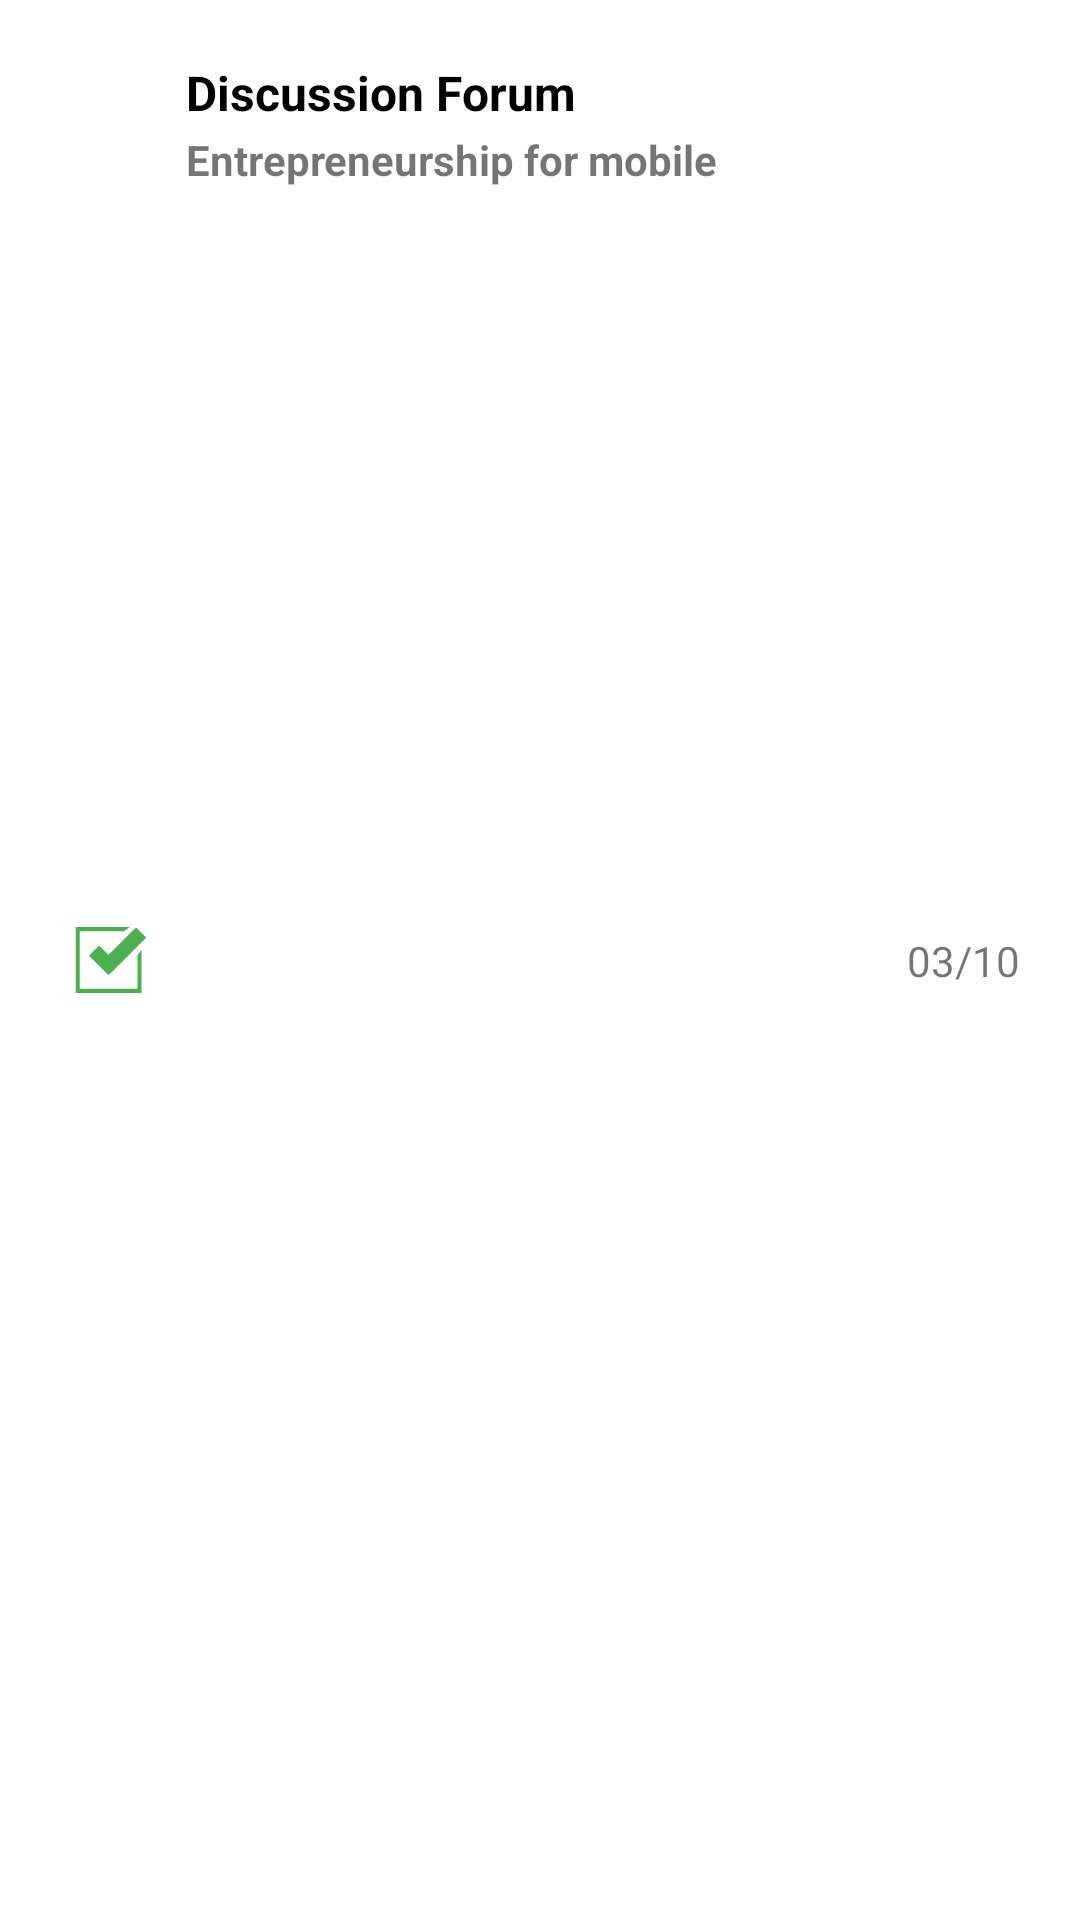

Icons on this 1080px x 1920px Android screen, each with the point to tap as (x=x, y=y):
completed task: (x=110, y=960)
